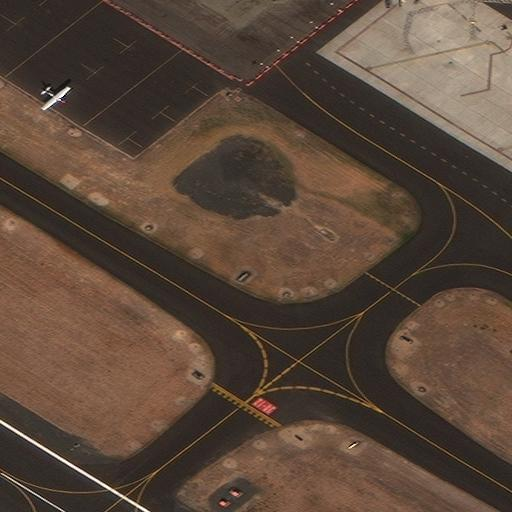Small Civil Transport: (43, 88, 71, 110)
